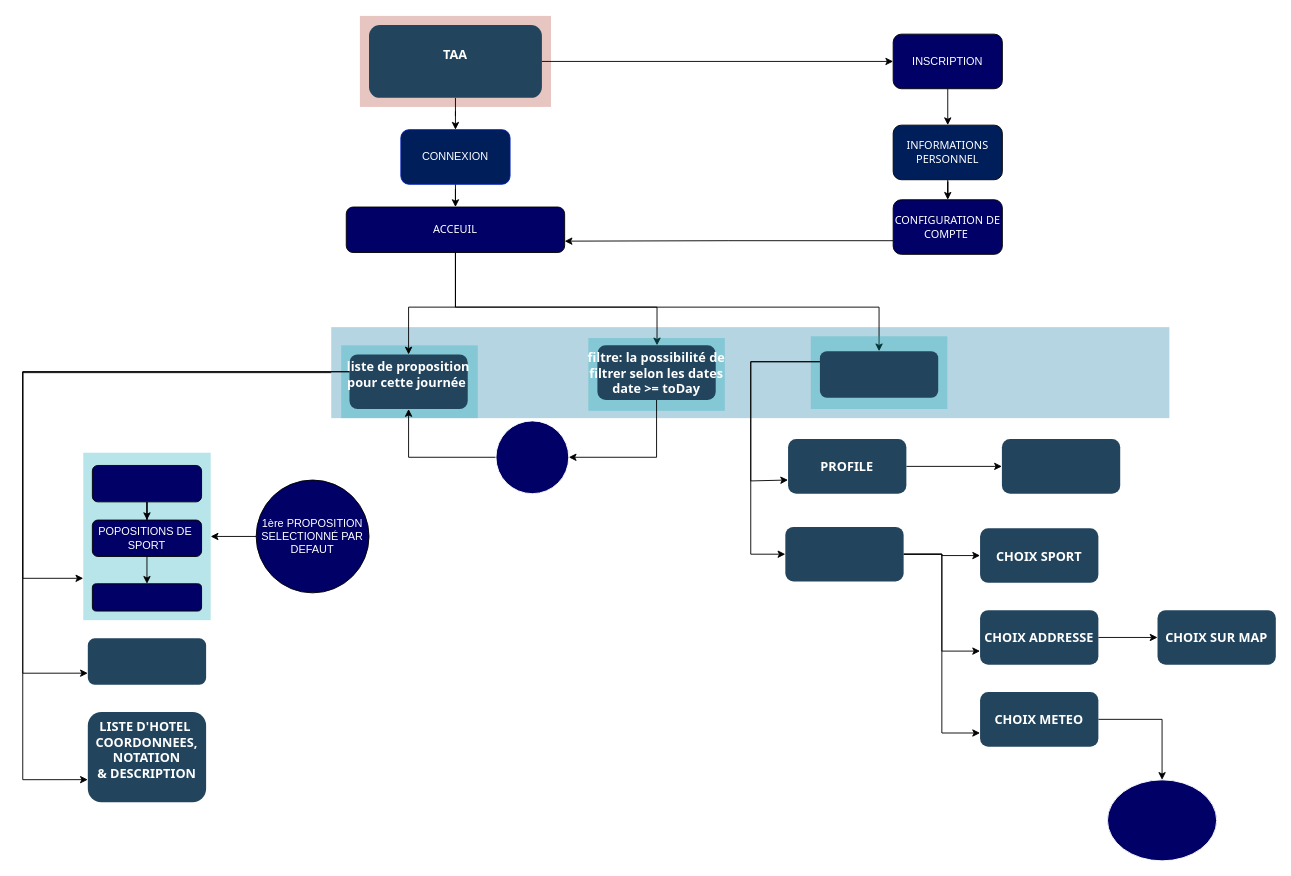
Image size: 1291x876. Some labels were removed from this diagram. Here are the shapes that lost their labels. From the top down, the centre of each, then its label:
the point at 878,374: CONFIGURATION
the point at 532,457: UPDATE DATA
the point at 1060,466: UPDATE PROFILE
the point at 146,483: METEO JOUR
the point at 844,553: CHOIX
the point at 146,597: ADRESSE LIEU
the point at 146,661: VUE TRAJET PROPOSITION
the point at 1162,820: CHOIX MULTIPLE
